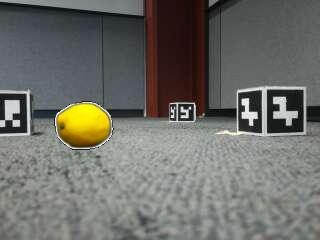lemon: (57, 104, 111, 147)
